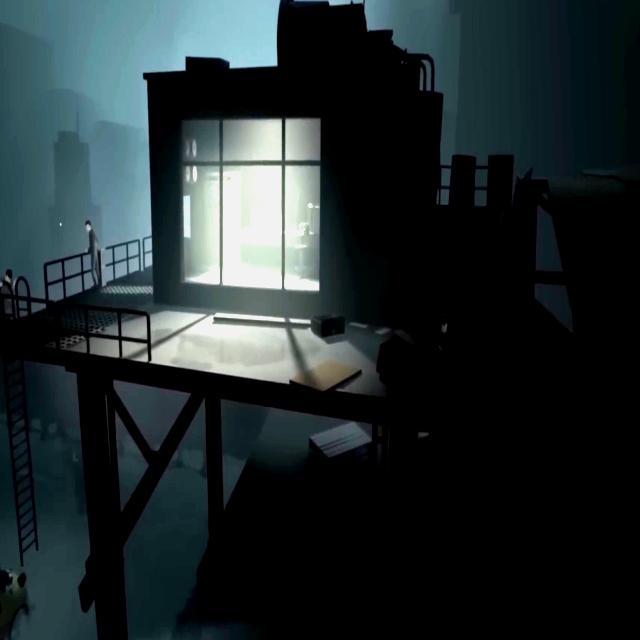human: (85, 220, 100, 290), (0, 268, 18, 290)
